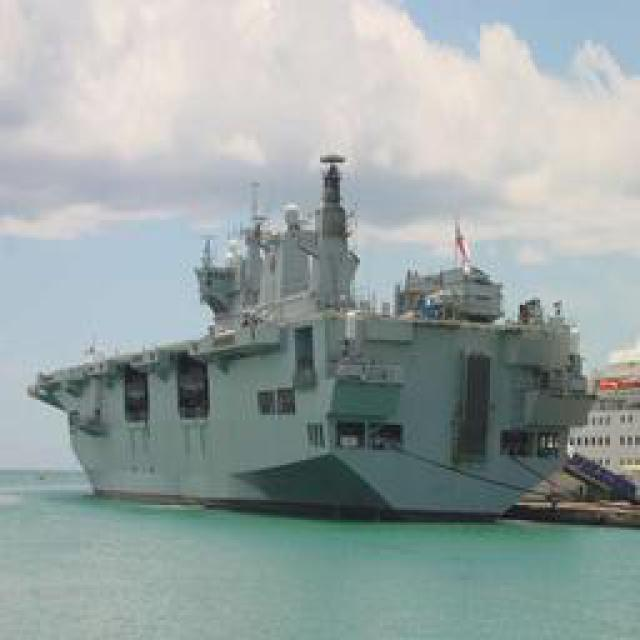Ship: (32, 158, 612, 513)
